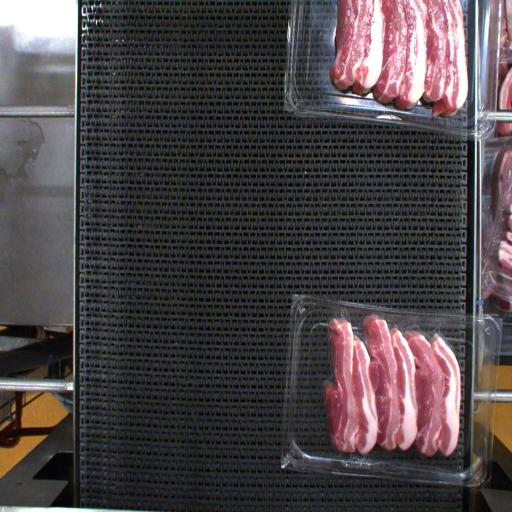unsealed: (319, 309, 458, 354)
